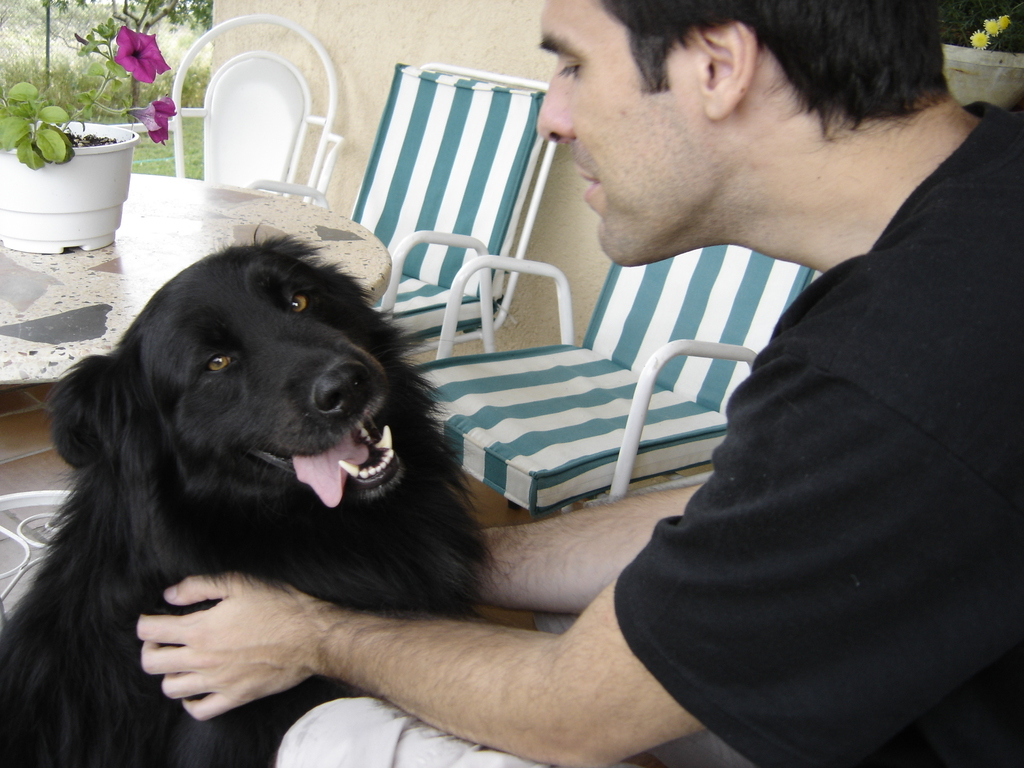Chair: (410, 238, 824, 515), (312, 77, 600, 394)
